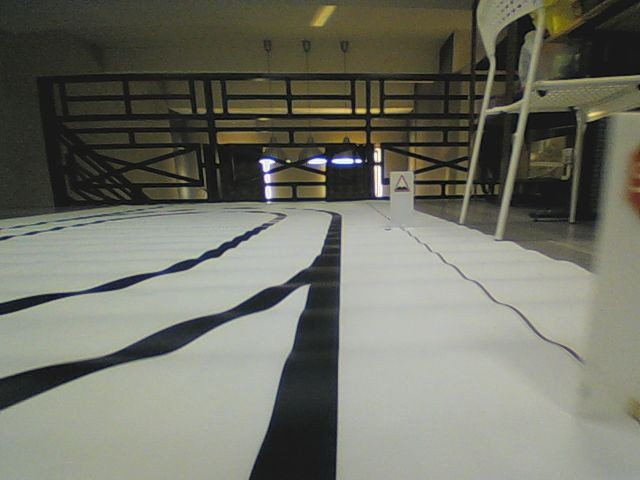Nerov: (393, 172, 410, 194)
